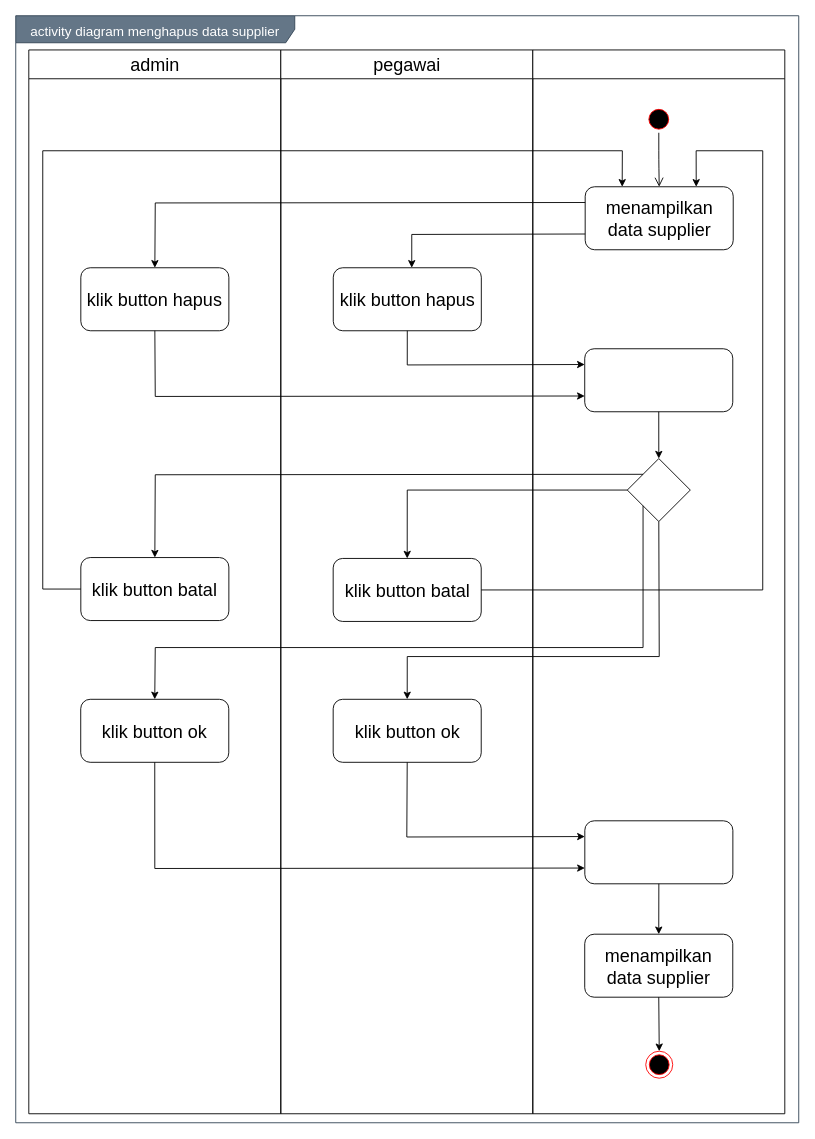
The diagram is 815 pixels wide and 1139 high, and some of its shapes have lost their labels. Each missing label, with the box of its shape:
menampilkan konfirmasi hapus data supplier: (584, 348, 733, 412)
menghapus data supplier: (584, 820, 733, 884)
sistem: (532, 49, 785, 1114)
